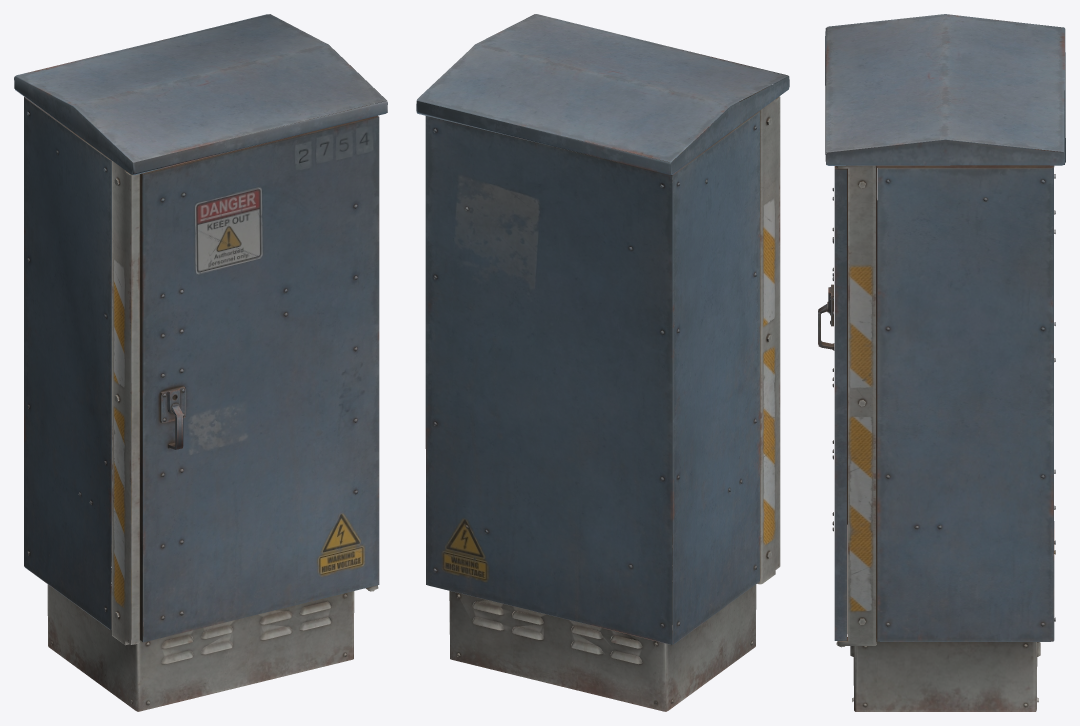
The model's file is utility_box_01_game.glb.
The picture shows the model from 3 angles, left to right: view 1: azimuth 30°, elevation 25°; view 2: azimuth 150°, elevation 25°; view 3: azimuth 270°, elevation 25°; orthographic projection.
Parts seen in each view (by area): view 1: utility_box_01_box; view 2: utility_box_01_box; view 3: utility_box_01_box.
Boxes of the visible parts, left/top/right/bottom form: utility_box_01_box: left=14, top=14, right=387, bottom=711; utility_box_01_box: left=416, top=14, right=789, bottom=711; utility_box_01_box: left=818, top=14, right=1065, bottom=711.
Bounding box in the file's own units: 0.5185 × 1.12 × 0.432.
1 material, 1 textured.
